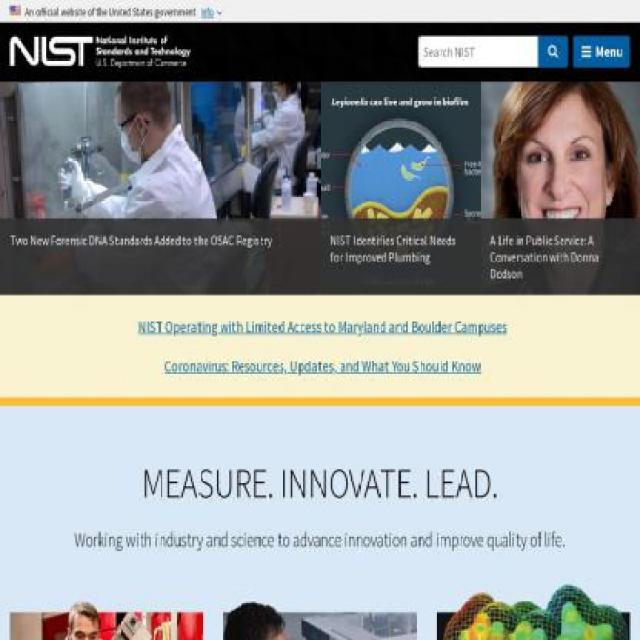button: (0, 80, 320, 294), (480, 81, 640, 296), (320, 80, 480, 294), (0, 217, 320, 261), (480, 218, 640, 296), (320, 218, 480, 278), (9, 36, 191, 69), (573, 36, 630, 69), (538, 36, 568, 69), (201, 5, 222, 18)
field: (418, 36, 538, 69)
